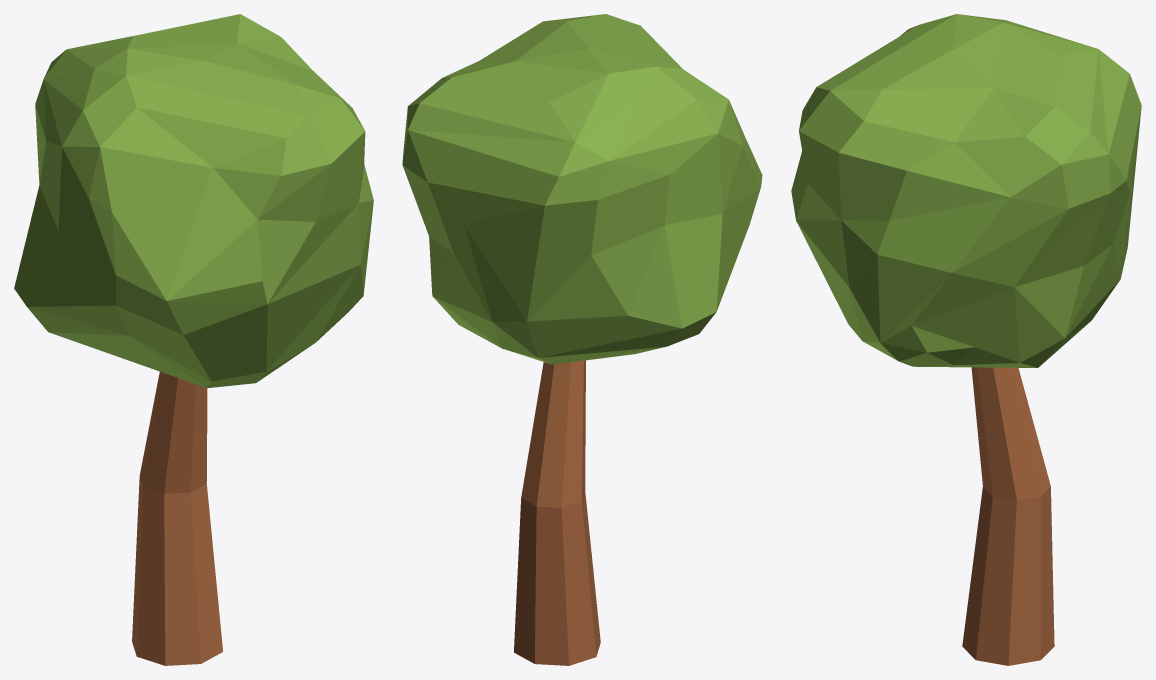
File: tree_1.fbx
The picture shows the model from 3 angles, left to right: view 1: azimuth 30°, elevation 25°; view 2: azimuth 150°, elevation 25°; view 3: azimuth 270°, elevation 25°; orthographic projection. The views are drawn at different scales.
Visible parts, largest first — view 1: Sphere, Circle; view 2: Sphere, Circle; view 3: Sphere, Circle.
Boxes of the visible parts, box(x1,y1,x2,y2) form: Sphere: box(14, 14, 373, 388); Circle: box(132, 371, 222, 665); Sphere: box(402, 14, 762, 364); Circle: box(514, 360, 600, 665); Sphere: box(791, 14, 1141, 367); Circle: box(962, 367, 1054, 665).
Bounding box in the file's own units: 265 × 507 × 269.
